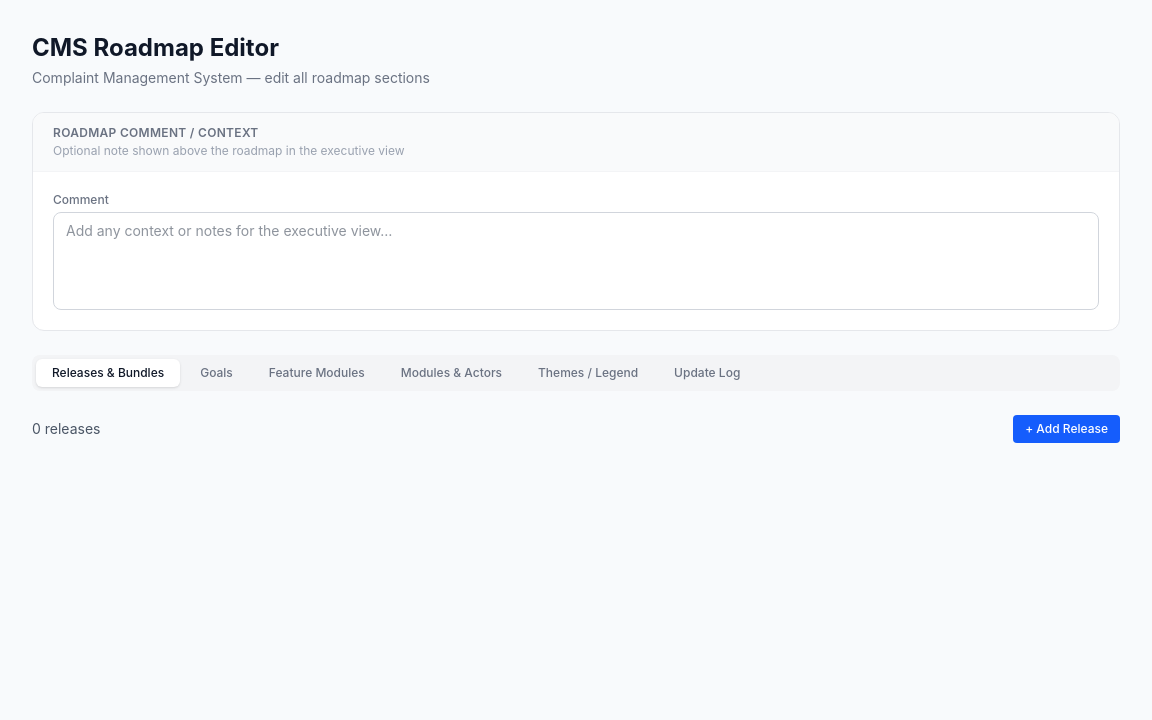
ComplaintsRoadmapEditor (via RoadmapEditor with cms slug) › T-50.13: "+ Add Theme" button opens theme form
This screenshot has width=1152, height=720.
Click the button "Themes / Legend". click: (588,373)
box: [522,359,654,387]
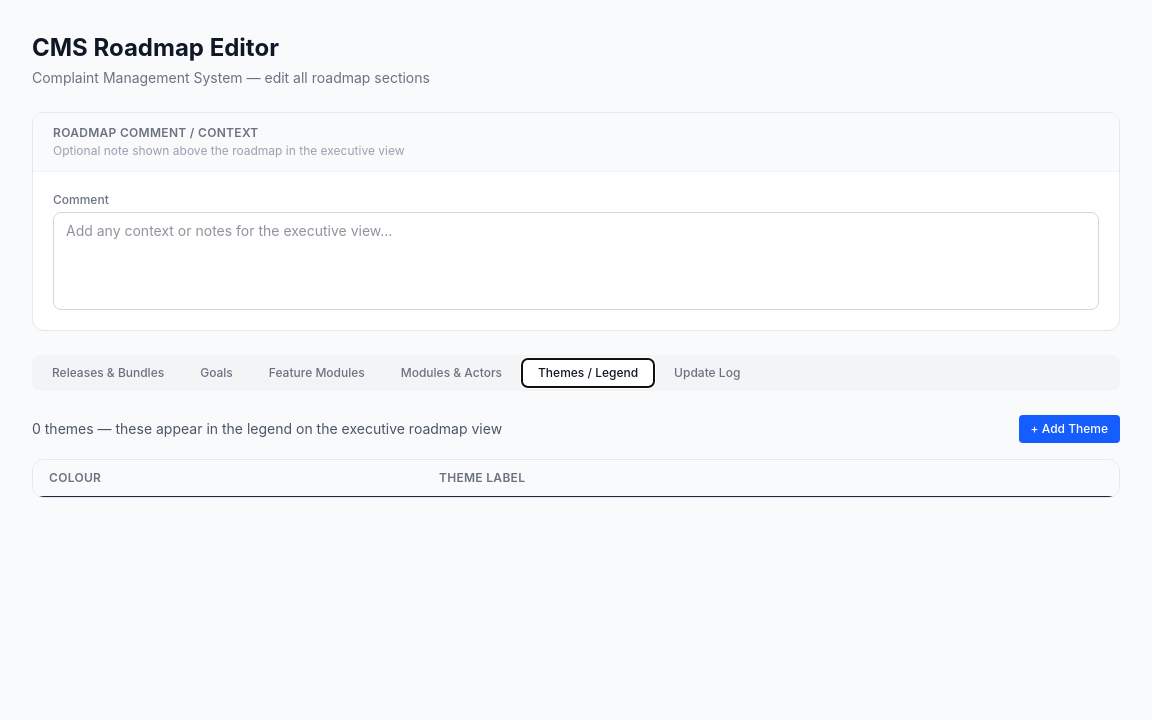
expect the button "+ Add Theme" is shown: met
Click the button "+ Add Theme". click: (1069,429)
box: [1018,415,1120,443]
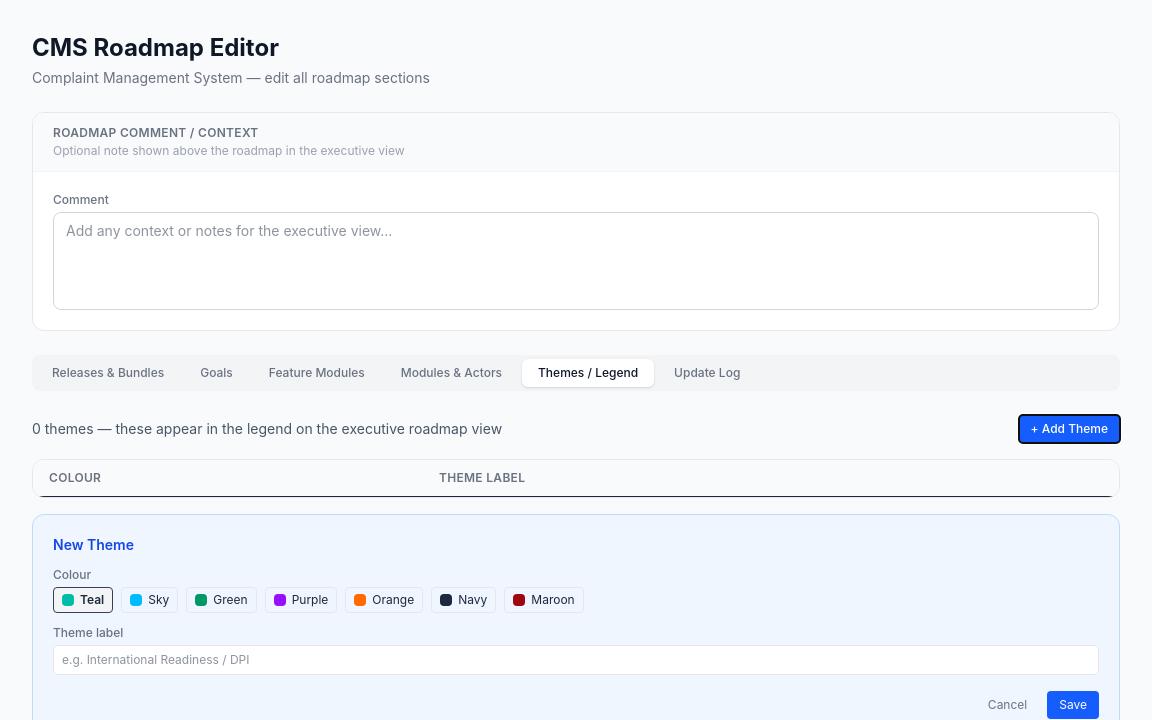
expect the text "New Theme" is shown: met, box [53,536,134,553]
